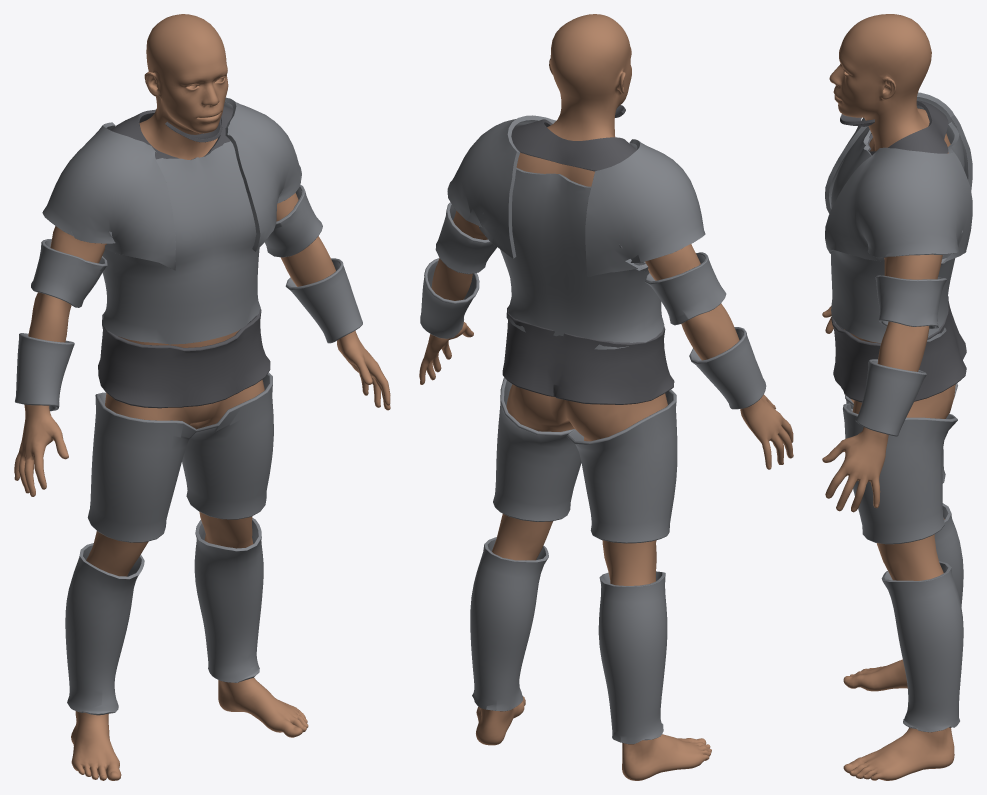
Rendered from warrior-harness.glb.
3 renders of one model, left to right at view 1: azimuth 30°, elevation 25°; view 2: azimuth 150°, elevation 25°; view 3: azimuth 270°, elevation 25°, orthographic.
Parts seen in each view (by area): view 1: GEO-body_male_realistic, cuirass, pauldron_r, cuisse_r, fauld, cuisse_l, greave_r, greave_l, pauldron_l, vambrace_r, vambrace_l, rerebrace_r (+2 smaller); view 2: GEO-body_male_realistic, cuirass, pauldron_r, cuisse_r, fauld, greave_r, greave_l, cuisse_l, pauldron_l, gorget, vambrace_r, rerebrace_r (+2 smaller); view 3: GEO-body_male_realistic, pauldron_l, greave_l, cuisse_l, cuirass, fauld, vambrace_l, rerebrace_l, gorget, pauldron_r, greave_r.
Boxes of the visible parts, box(x1,y1,x2,y2) form: GEO-body_male_realistic: box(14, 14, 390, 780); cuirass: box(102, 141, 260, 344); pauldron_r: box(42, 122, 175, 270); cuisse_r: box(87, 392, 196, 542); fauld: box(98, 308, 270, 408); cuisse_l: box(182, 372, 273, 519); greave_r: box(65, 543, 144, 715); greave_l: box(194, 518, 263, 682); pauldron_l: box(224, 97, 301, 251); vambrace_r: box(15, 333, 74, 411); vambrace_l: box(285, 258, 362, 343); rerebrace_r: box(31, 239, 107, 307); GEO-body_male_realistic: box(419, 14, 793, 780); cuirass: box(482, 168, 664, 349); pauldron_r: box(585, 139, 705, 276); cuisse_r: box(566, 389, 677, 543); fauld: box(502, 308, 674, 404); greave_r: box(598, 571, 667, 744); greave_l: box(470, 537, 548, 711); cuisse_l: box(493, 377, 581, 521); pauldron_l: box(447, 115, 555, 258); gorget: box(511, 105, 636, 171); vambrace_r: box(689, 327, 766, 409); rerebrace_r: box(645, 252, 726, 325); GEO-body_male_realistic: box(822, 14, 955, 780); pauldron_l: box(825, 147, 972, 264); greave_l: box(881, 561, 963, 732); cuisse_l: box(843, 403, 957, 544); cuirass: box(831, 122, 964, 343); fauld: box(831, 296, 966, 402); vambrace_l: box(855, 359, 926, 436); rerebrace_l: box(875, 275, 946, 328); gorget: box(840, 100, 948, 155); pauldron_r: box(825, 92, 972, 213); greave_r: box(934, 503, 963, 606).
Size of the model in its own units: 1.04 by 2.01 by 0.383.
